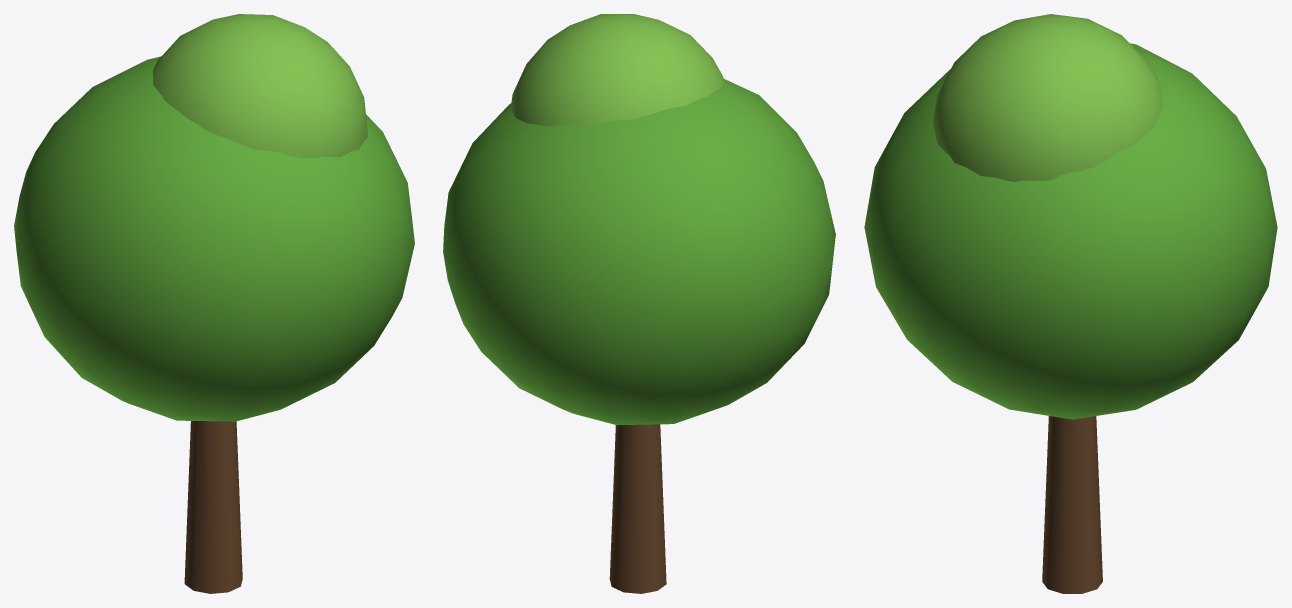
Rendered from prop_tree_deciduous_0.glb.
3 renders of one model, left to right at view 1: azimuth 30°, elevation 25°; view 2: azimuth 150°, elevation 25°; view 3: azimuth 270°, elevation 25°, orthographic. The views are drawn at different scales.
Parts seen in each view (by area): view 1: Crown, CrownTop, Trunk; view 2: Crown, CrownTop, Trunk; view 3: Crown, CrownTop, Trunk.
Part boxes in pixels (x1,y1,x2,y2): Crown: (14, 56, 414, 421); CrownTop: (152, 14, 367, 157); Trunk: (184, 421, 242, 593); Crown: (443, 79, 835, 425); CrownTop: (510, 14, 724, 126); Trunk: (609, 424, 666, 593); Crown: (864, 43, 1277, 419); CrownTop: (933, 14, 1162, 182); Trunk: (1042, 416, 1102, 593).
Size of the model in its own units: 3.82 by 5.79 by 3.8.
